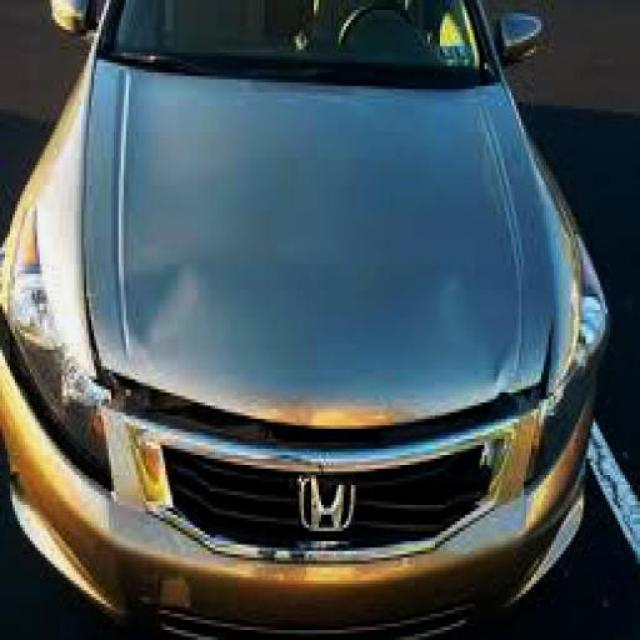Car-Damage: (77, 272, 573, 468), (108, 253, 206, 368), (438, 265, 516, 387)
